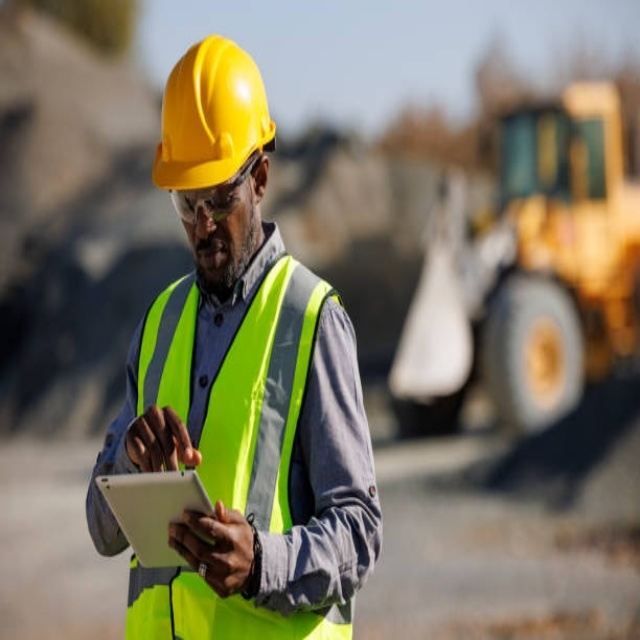Gafas: (175, 150, 262, 225)
Sin_guantes: (170, 498, 257, 601), (126, 404, 200, 475)
Sin_mascara: (189, 238, 232, 281)
